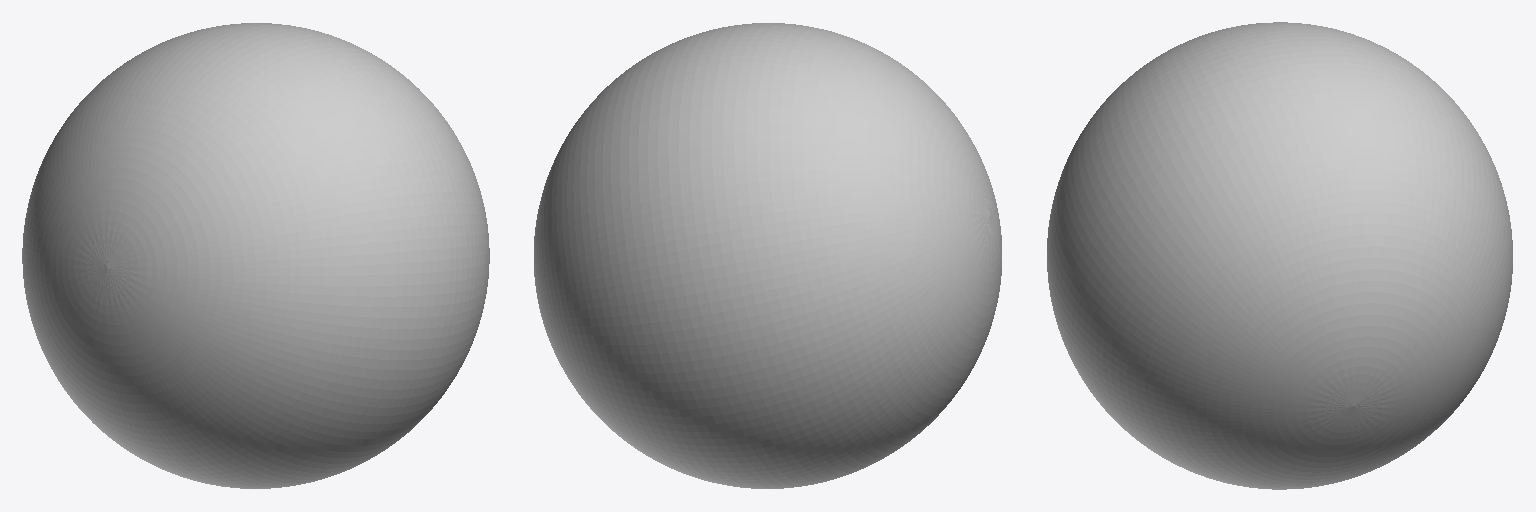
The model's file is earth.obj.
3 views of the same model, side by side, from view 1: azimuth 30°, elevation 25°; view 2: azimuth 150°, elevation 25°; view 3: azimuth 270°, elevation 25° (orthographic).
Parts seen in each view (by area): view 1: Sphere_Sphere.002; view 2: Sphere_Sphere.002; view 3: Sphere_Sphere.002.
Part boxes in pixels (bbox=[...]): Sphere_Sphere.002: bbox=[22, 23, 489, 488]; Sphere_Sphere.002: bbox=[534, 23, 1001, 488]; Sphere_Sphere.002: bbox=[1047, 22, 1512, 489].
Bounding box in the file's own units: 4.31 × 4.29 × 4.29.